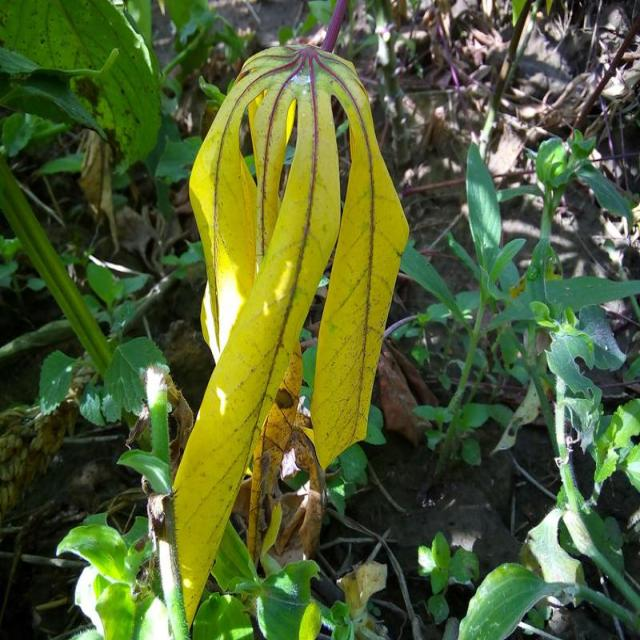cassava leaf: (166, 40, 410, 632)
